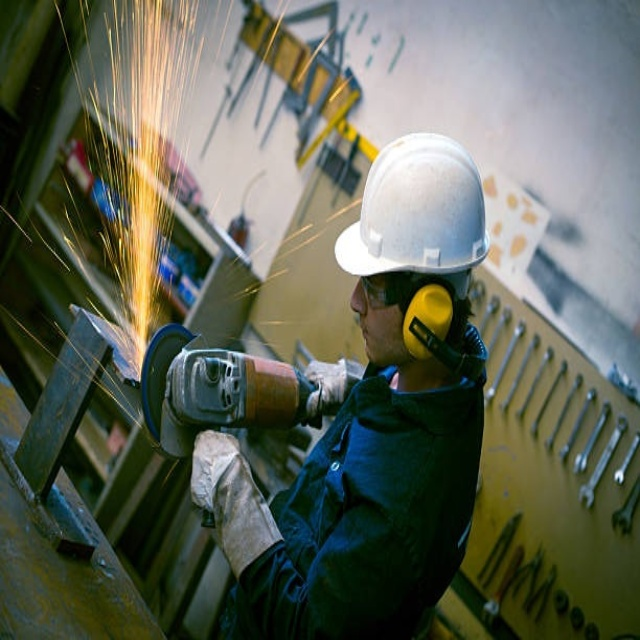Gafas: (361, 274, 414, 308)
Guantes: (186, 422, 287, 584), (303, 350, 365, 414)
Sin_mascara: (356, 314, 388, 365)
